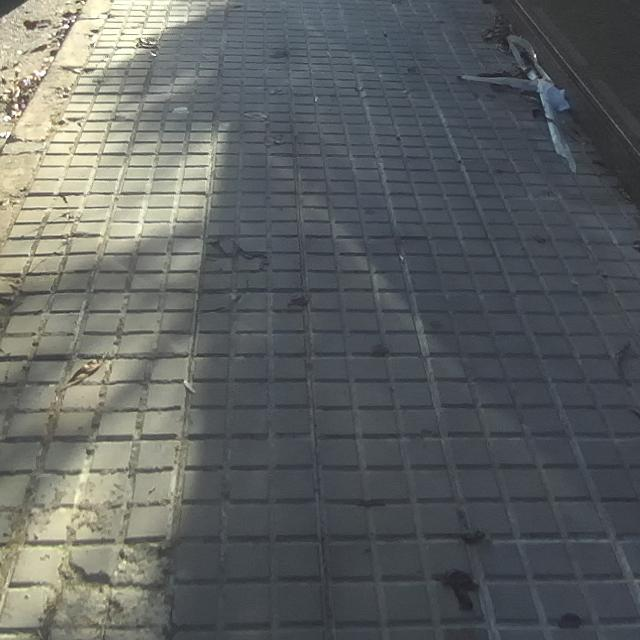calcada_quebrada: (28, 239, 70, 273), (229, 241, 270, 273)
